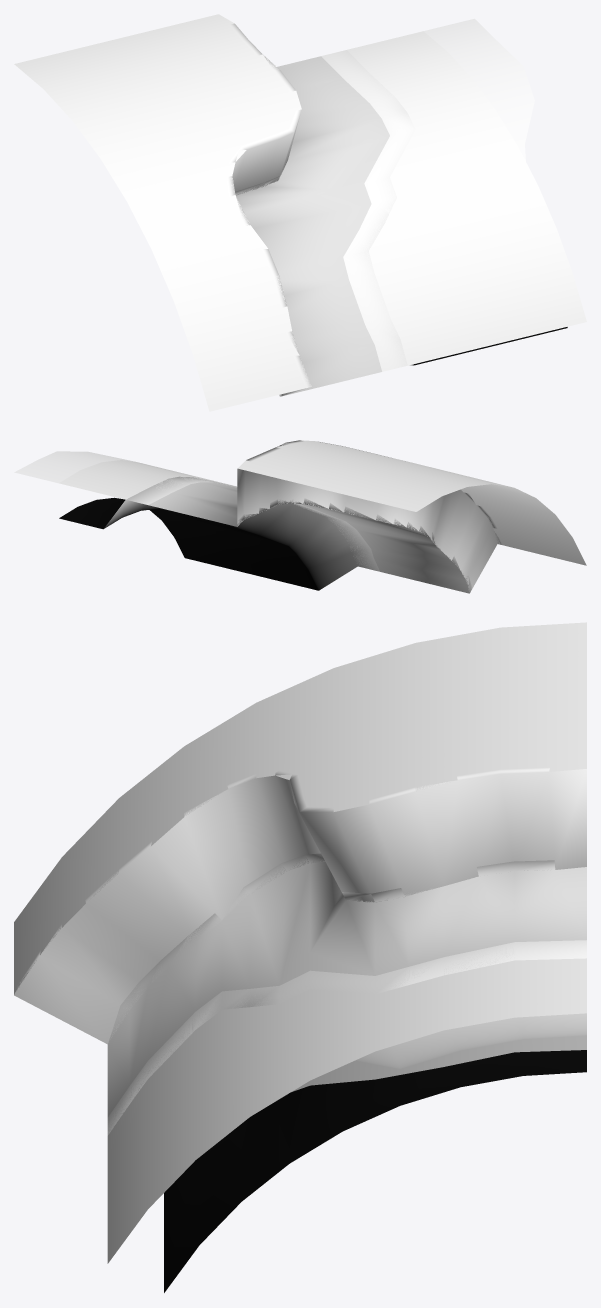
The model's file is grd_Mse_e_2.dae.
3 views of the same model, one above another, from view 1: azimuth 30°, elevation 25°; view 2: azimuth 150°, elevation 25°; view 3: azimuth 270°, elevation 25° (orthographic). The views are drawn at different scales.
Parts seen in each view (by area): view 1: grd_Mse_e_2; view 2: grd_Mse_e_2; view 3: grd_Mse_e_2.
Boxes of the visible parts, x1,y1,x2,y2 form: grd_Mse_e_2: [14, 14, 586, 411]; grd_Mse_e_2: [14, 440, 586, 593]; grd_Mse_e_2: [14, 622, 586, 1292].
Size of the model in its own units: 576 by 308 by 423.
6 materials, 1 textured.
